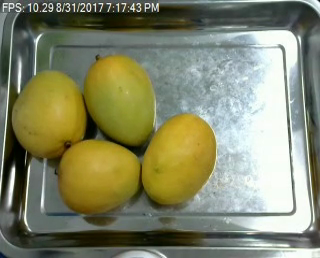Mango: (142, 114, 218, 205), (84, 51, 154, 148), (11, 67, 84, 159), (54, 140, 144, 213)
